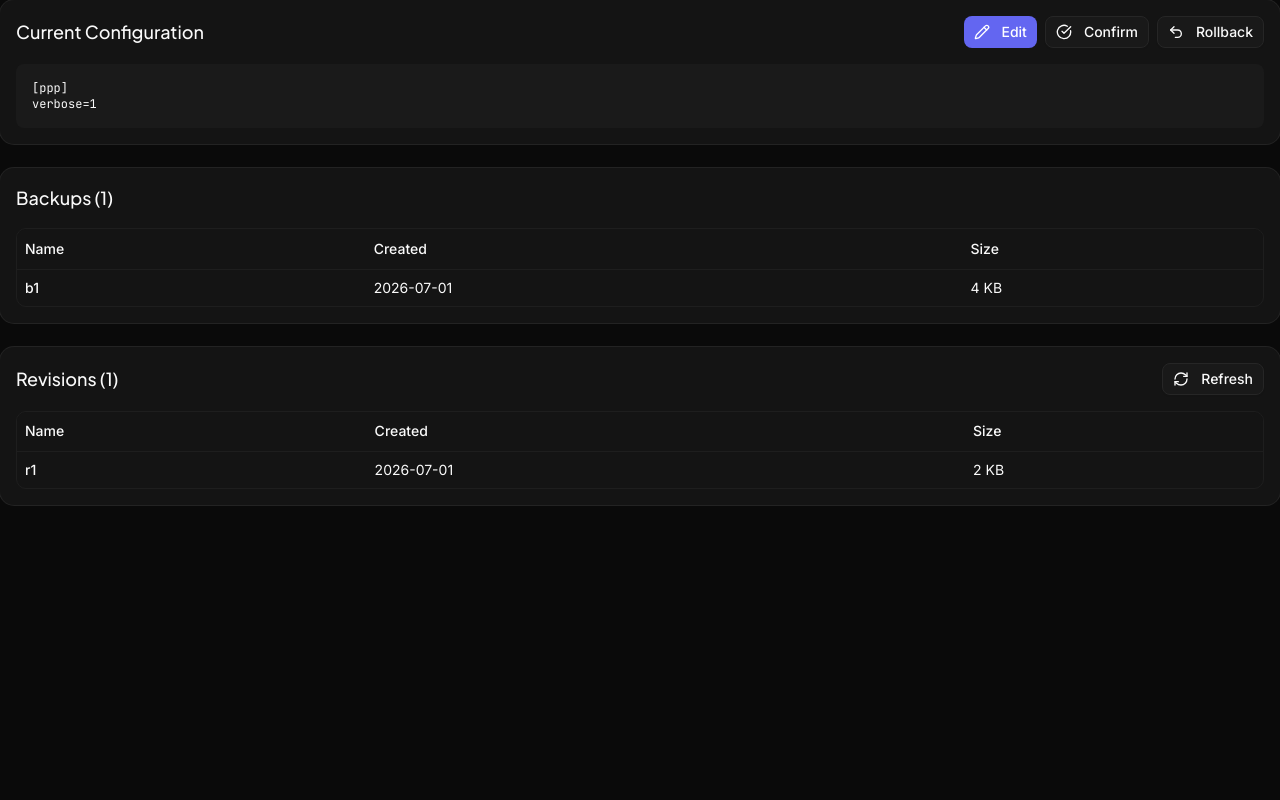
ConfigPage server validation › runs server-side validation and shows success result
Click the button "Edit" at [1000, 32], box [964, 16, 1037, 48]
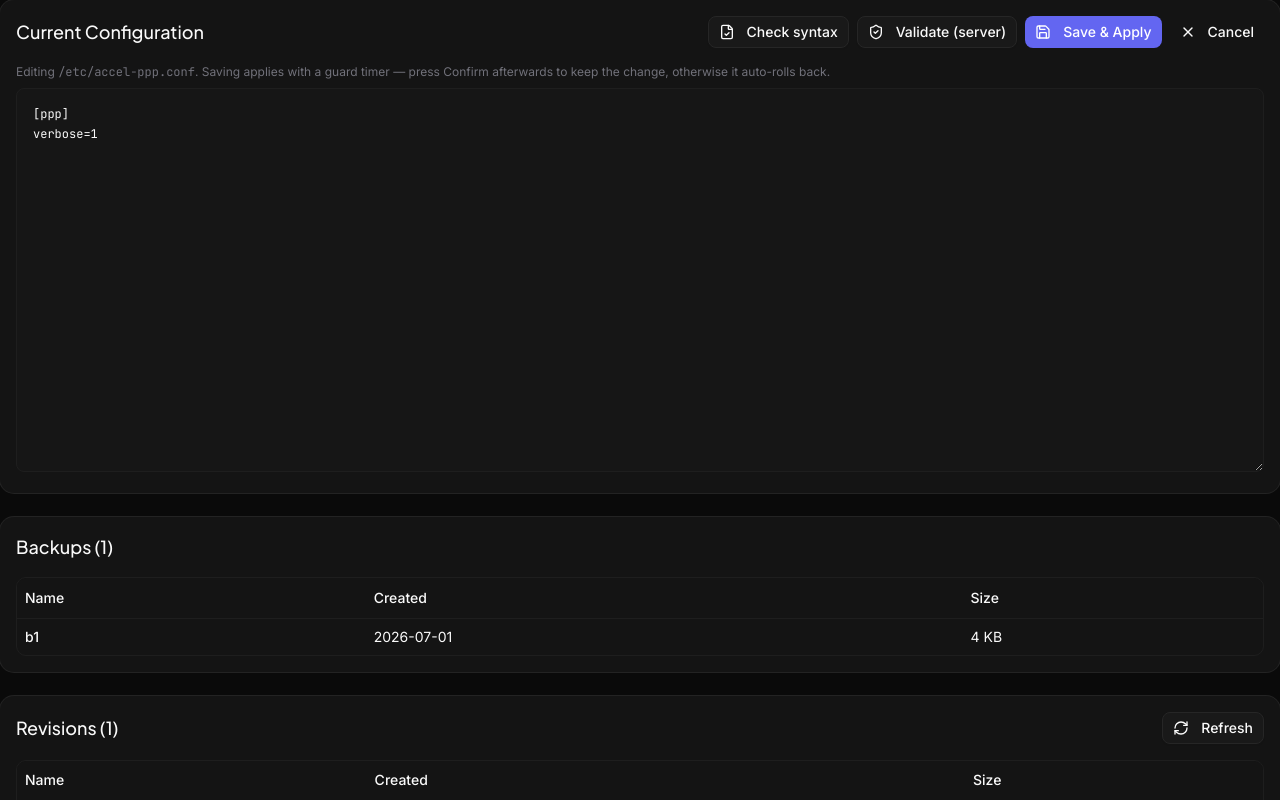
Click the button "Validate (server)" at [937, 32], box [857, 16, 1017, 48]
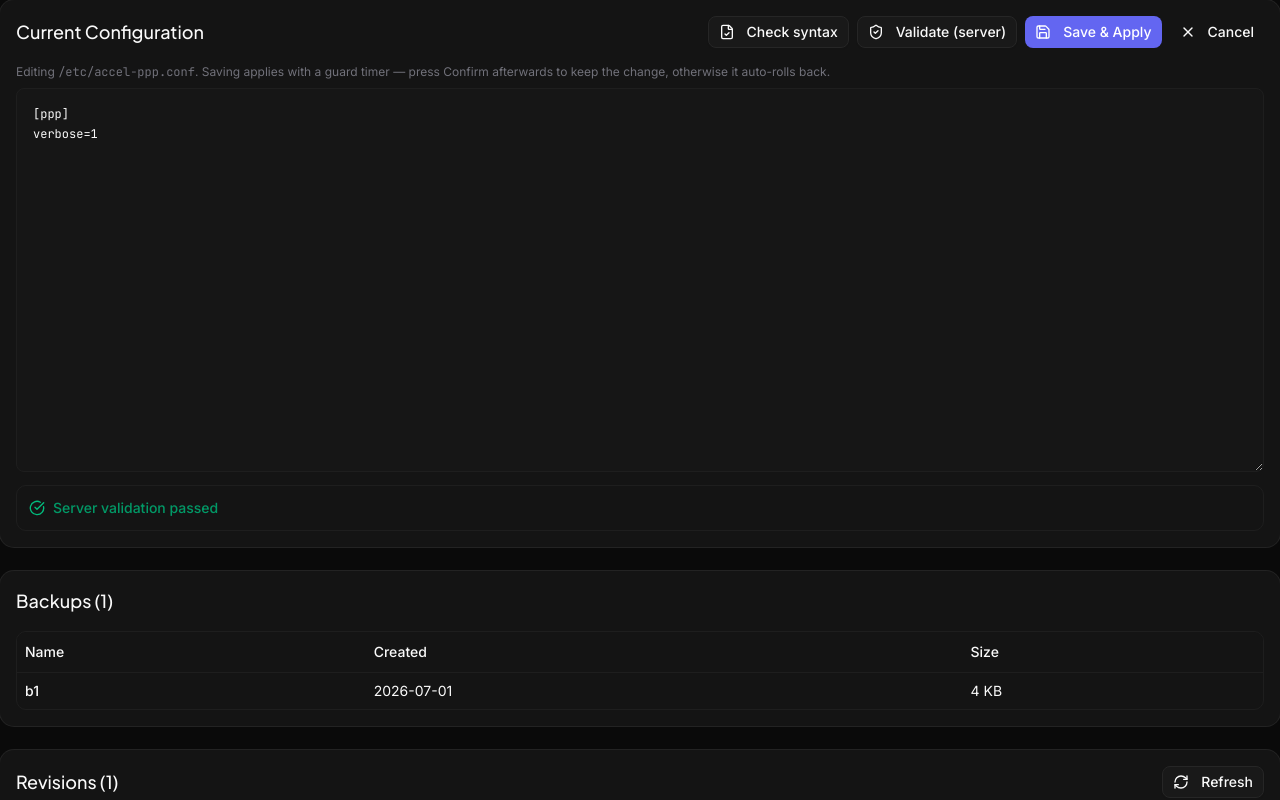
Now the text "Server validation passed" is shown, box [53, 498, 218, 518]
